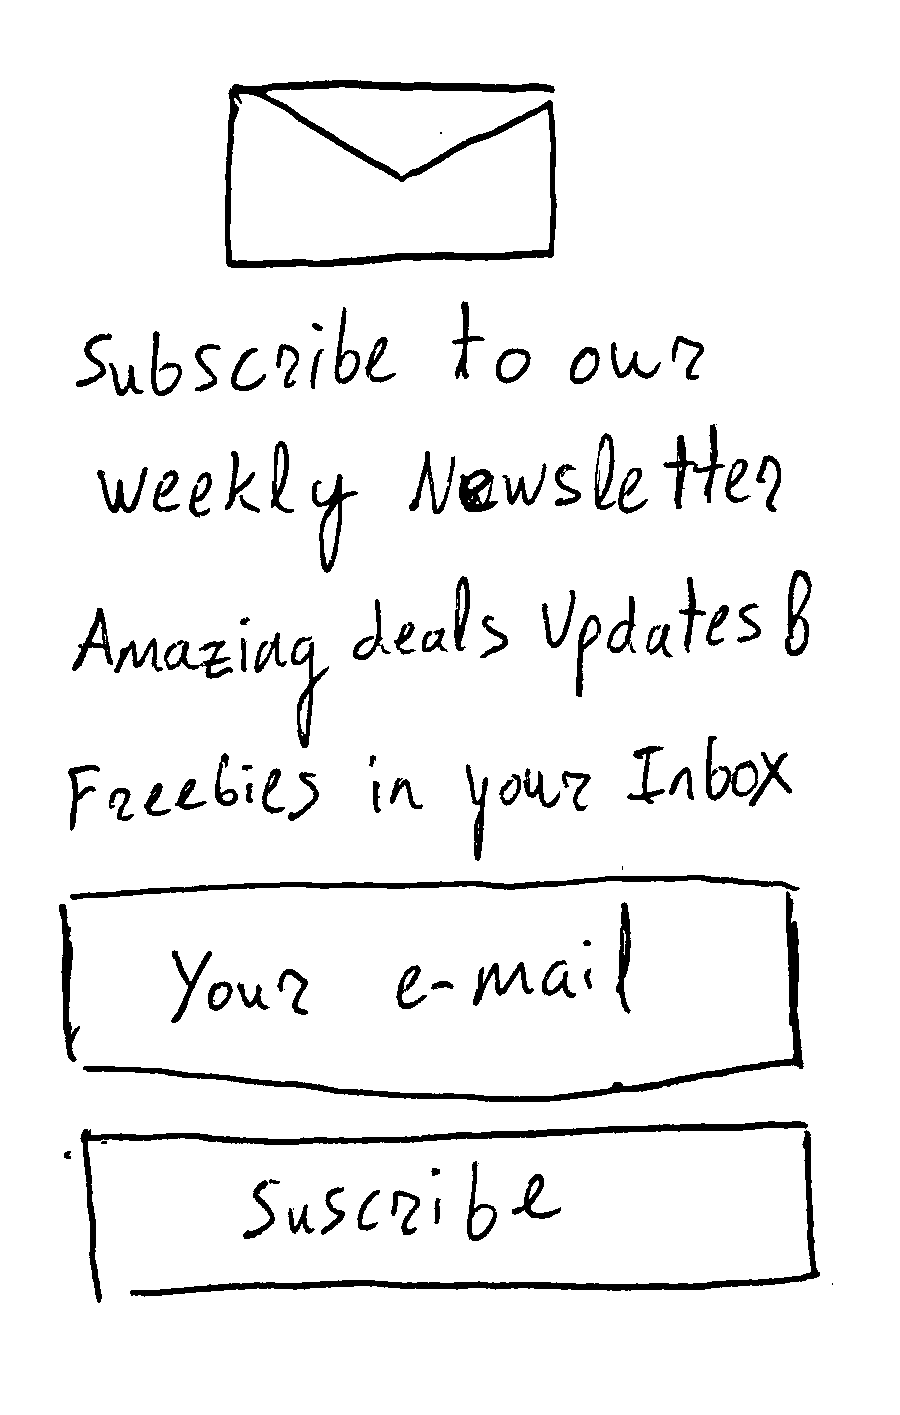Button: (52, 865, 815, 1100), (67, 1113, 826, 1311)
